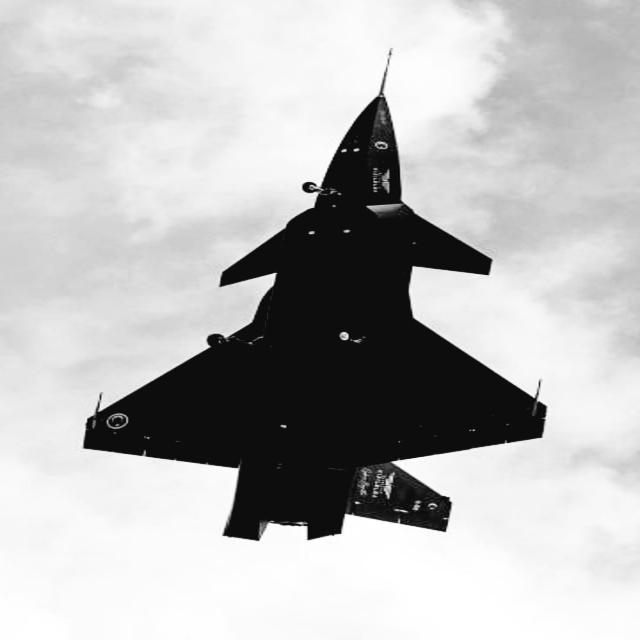iha: (20, 27, 544, 540)
